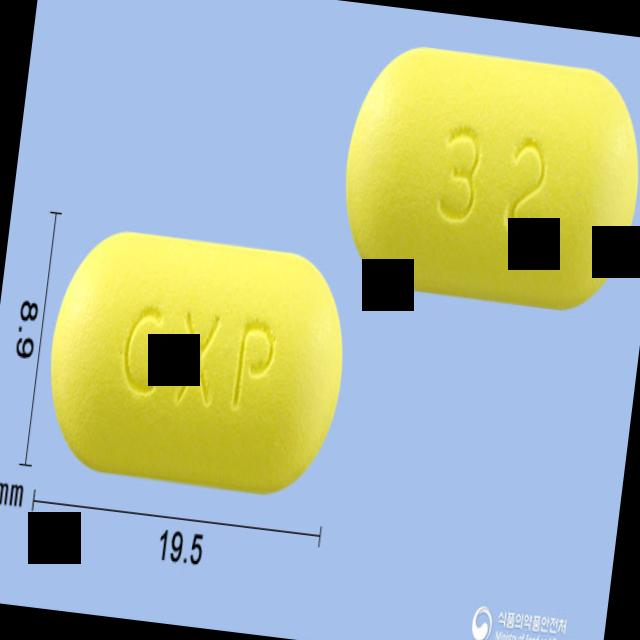Clatwo: (32, 212, 362, 514), (332, 35, 640, 318)
